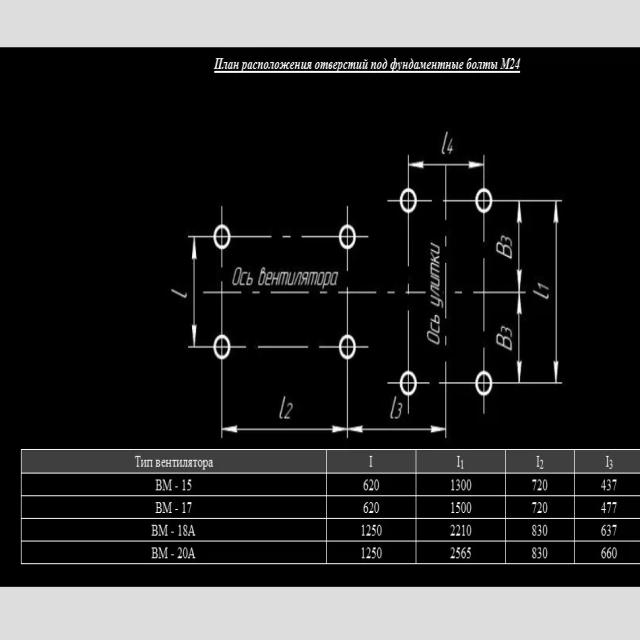marking_line: (495, 198, 565, 385), (220, 361, 349, 439), (344, 359, 451, 439), (496, 199, 530, 295), (495, 289, 526, 386), (187, 235, 213, 350), (405, 154, 485, 188)
numeric: (536, 282, 552, 293), (501, 234, 513, 248), (284, 402, 292, 420), (394, 402, 402, 420), (447, 138, 453, 153), (515, 57, 520, 71)
